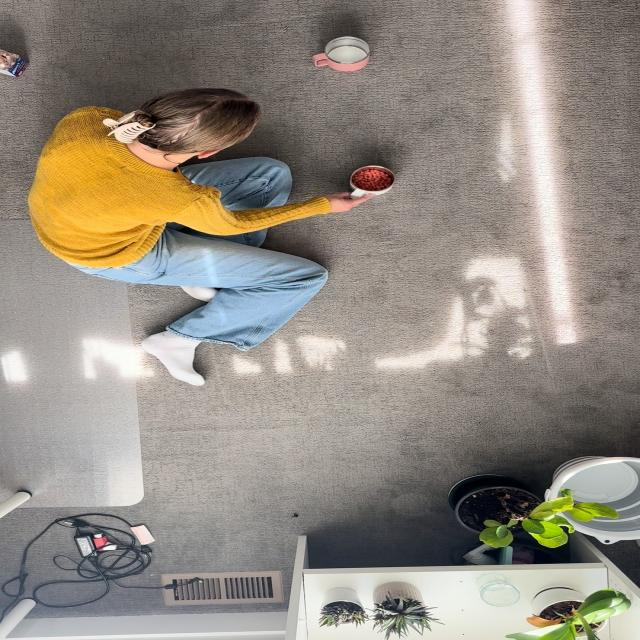IBC: (312, 36, 370, 72), (350, 165, 395, 199)
